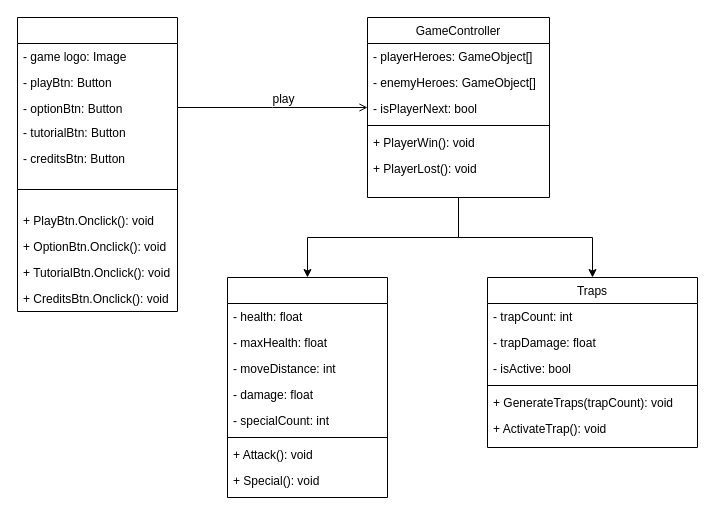
The diagram is 715 pixels wide and 515 high, and some of its shapes have lost their labels. Here are the shapes that lost their labels. From the top down, the box of each, then its label:
(16, 16, 178, 312): MainMenu
(226, 276, 388, 498): Characters
